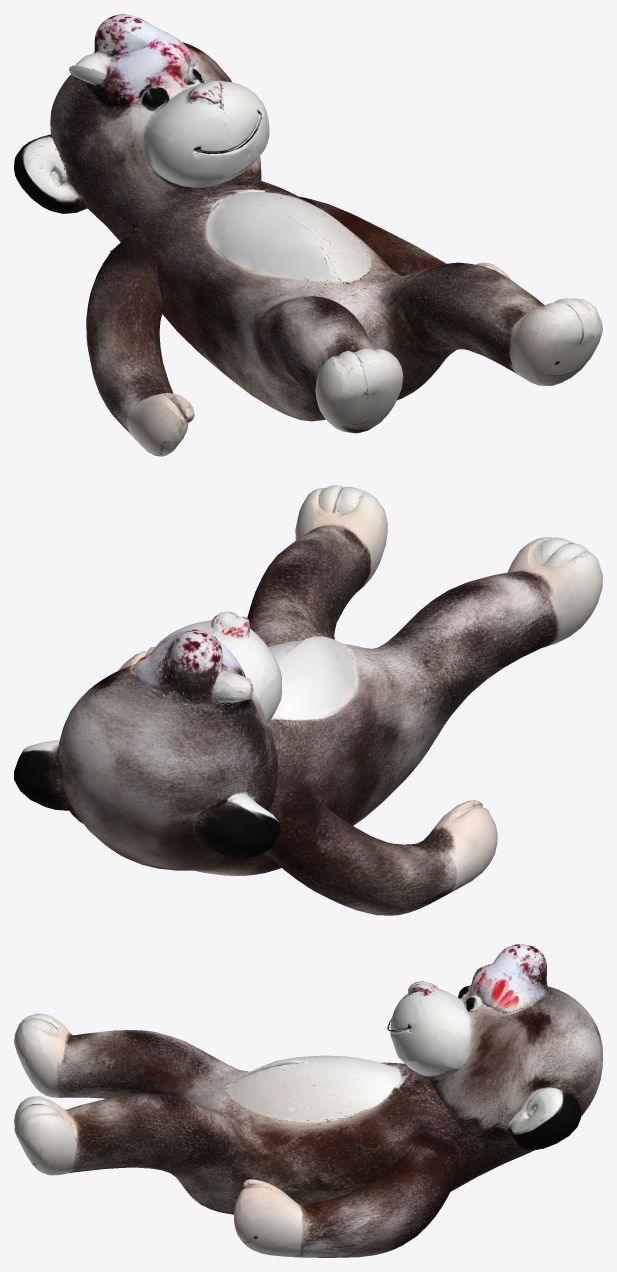
The model's file is PlushMonkey.glb.
3 views of the same model, one above another, from view 1: azimuth 30°, elevation 25°; view 2: azimuth 150°, elevation 25°; view 3: azimuth 270°, elevation 25° (orthographic). The views are drawn at different scales.
Visible parts, largest first — view 1: node_0; view 2: node_0; view 3: node_0.
Part boxes in pixels (x1,y1,x2,y2): node_0: [14, 14, 602, 456]; node_0: [14, 485, 602, 915]; node_0: [14, 944, 602, 1257].
Size of the model in its own units: 0.6602 by 0.5474 by 1.12.
Materials: 1 (1 with a texture image).
